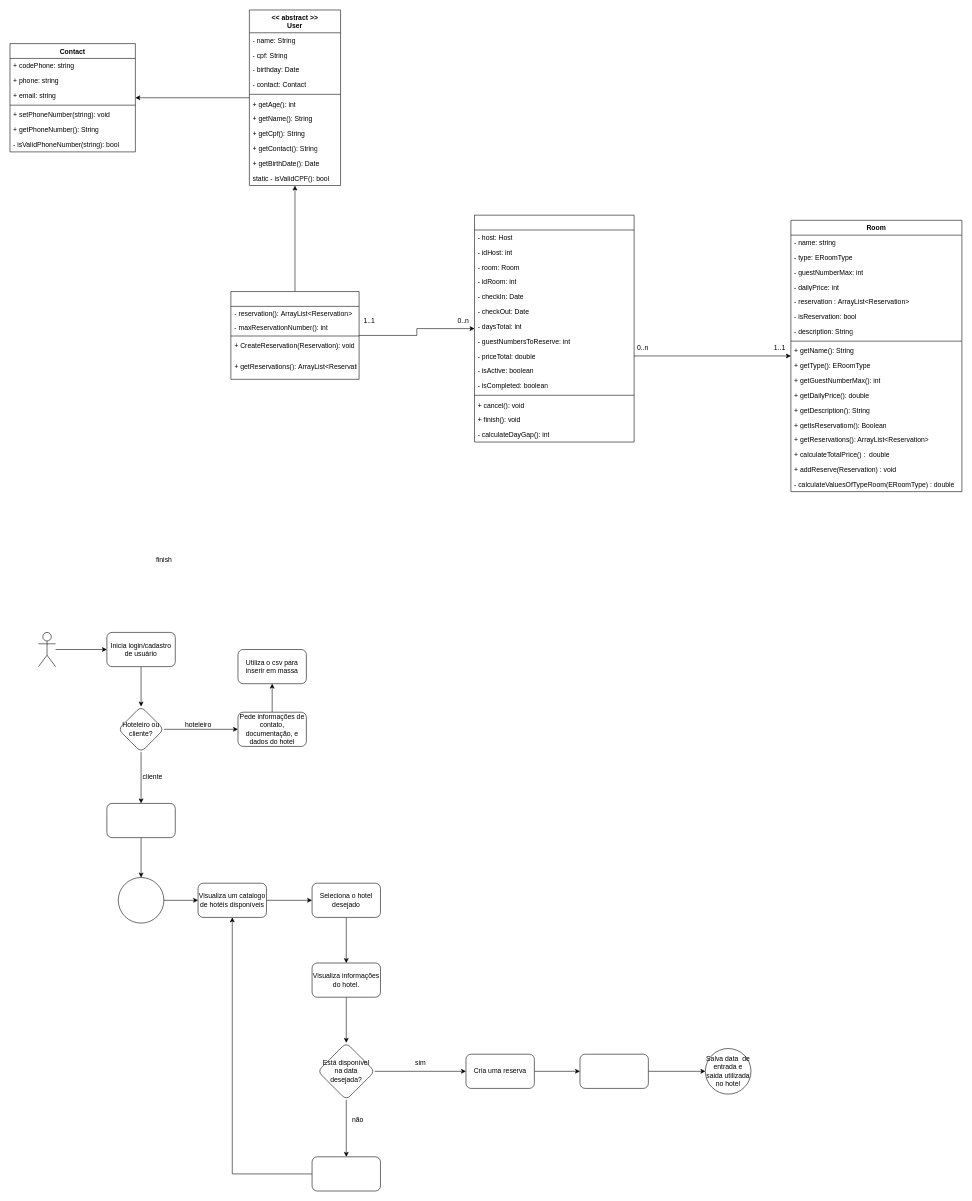
Some shapes in this 972 by 1201 pixel diagram are drawn without their labels. The shapes that lost their labels are listed below. From the top down, each one's box as (x1, y1, x2, y2) in pixels, then its label:
(230, 291, 359, 379): Host
(474, 215, 634, 442): Reservation
(38, 632, 56, 667): Actor
(106, 803, 175, 838): Pede informações de contato
(118, 877, 164, 923): Inicia Sessão de Reservas
(579, 1054, 648, 1088): Pagar reserva
(312, 1156, 380, 1191): Não inicia a reserva
